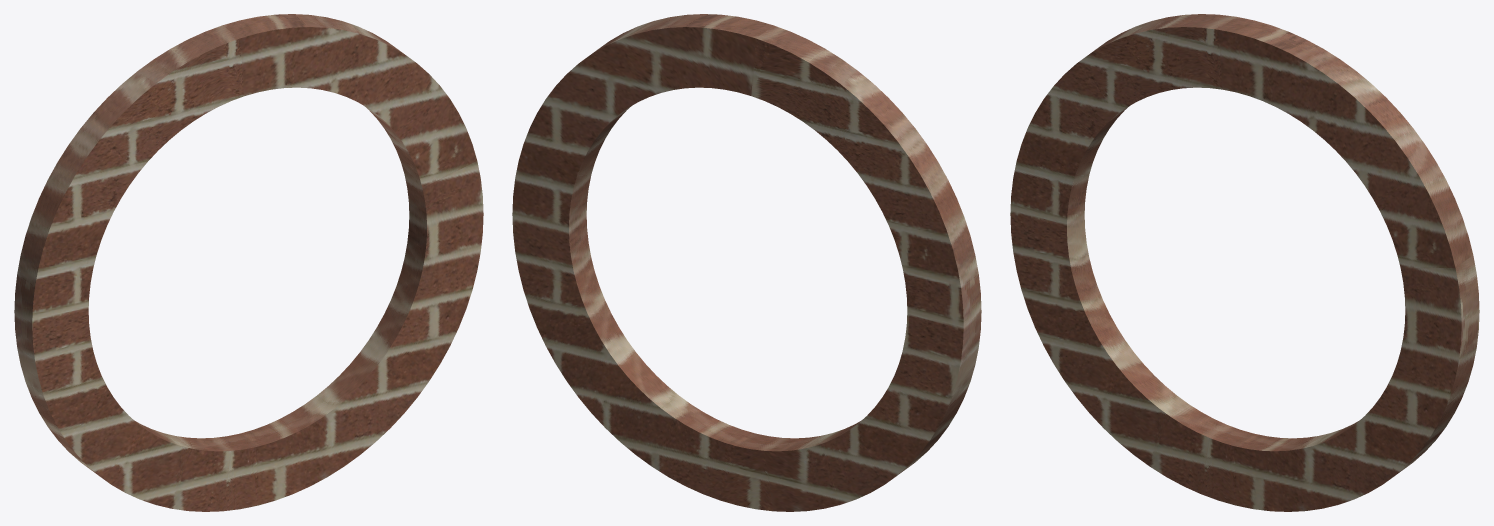
The model's file is BrickTube.fbx.
3 views of the same model, side by side, from view 1: azimuth 30°, elevation 25°; view 2: azimuth 150°, elevation 25°; view 3: azimuth 330°, elevation 25° (orthographic).
Visible parts, largest first — view 1: root; view 2: root; view 3: root.
Boxes of the visible parts, box(x1,y1,x2,y2) form: root: box(14, 14, 483, 511); root: box(512, 14, 981, 511); root: box(1010, 14, 1479, 511).
Size of the model in its own units: 0.3706 by 0.3706 by 0.0253.
1 material, 1 textured.
